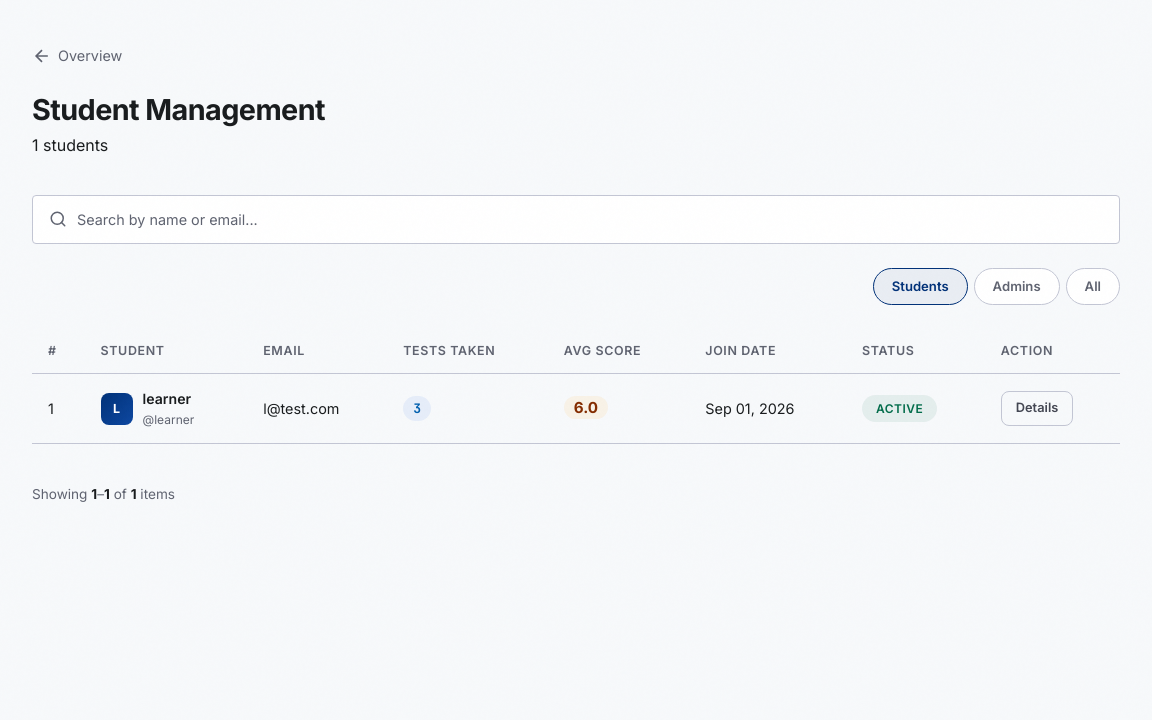
AdminUsersPage account management › suspends another account after the confirmation
What coordinates should you click on to do the following:
click the button "Details"
I would click on:
 (1037, 409)
Its box is [1001,391,1073,426].
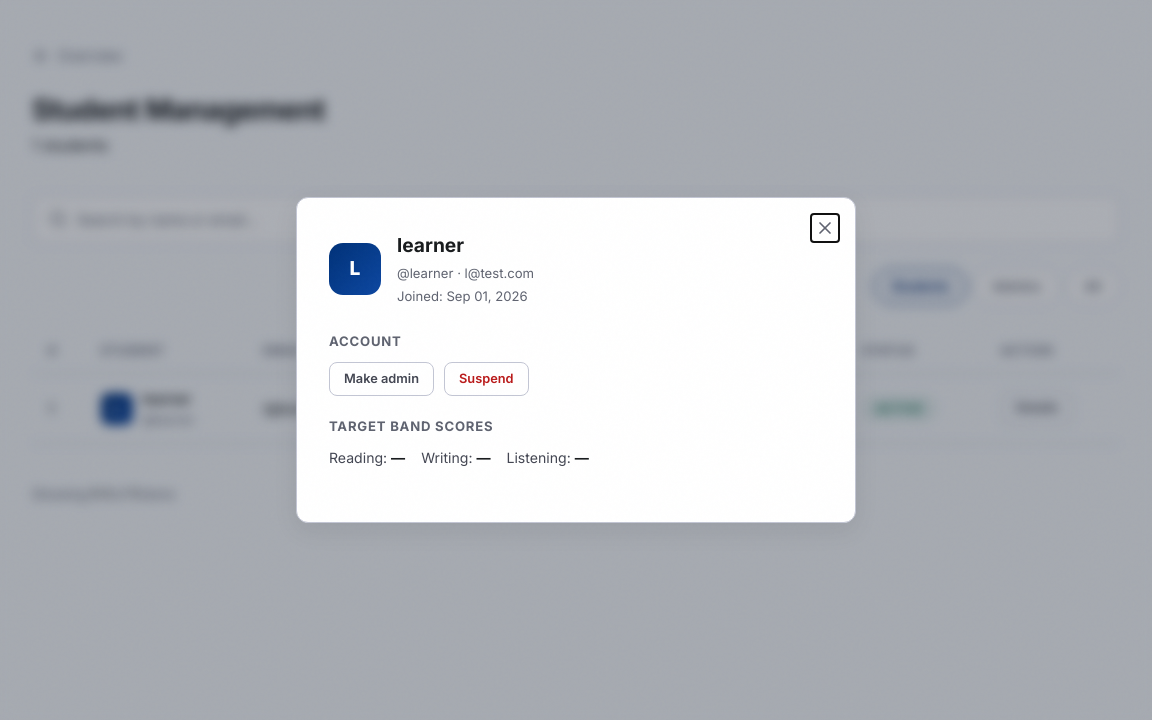
What coordinates should you click on to do the following:
click the button "Suspend"
I would click on:
 (486, 379)
Its box is [444,362,529,396].
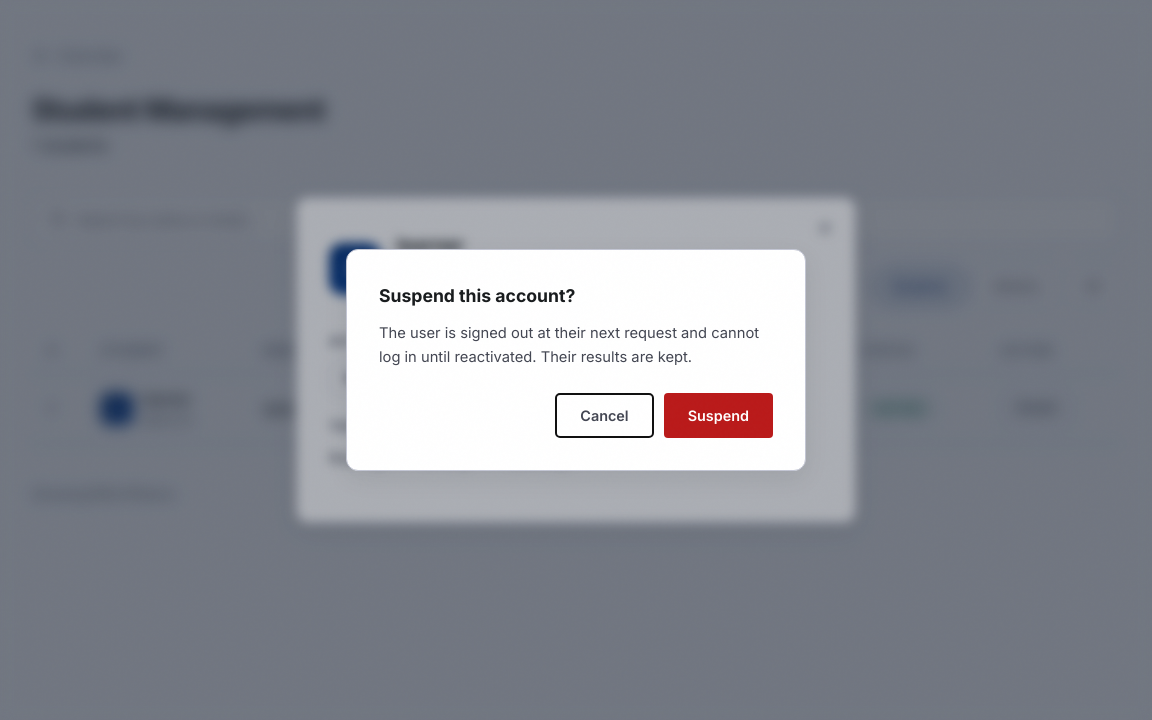
What coordinates should you click on to do the following:
click the button "Suspend"
I would click on:
 (718, 416)
Its box is [664,393,773,438].
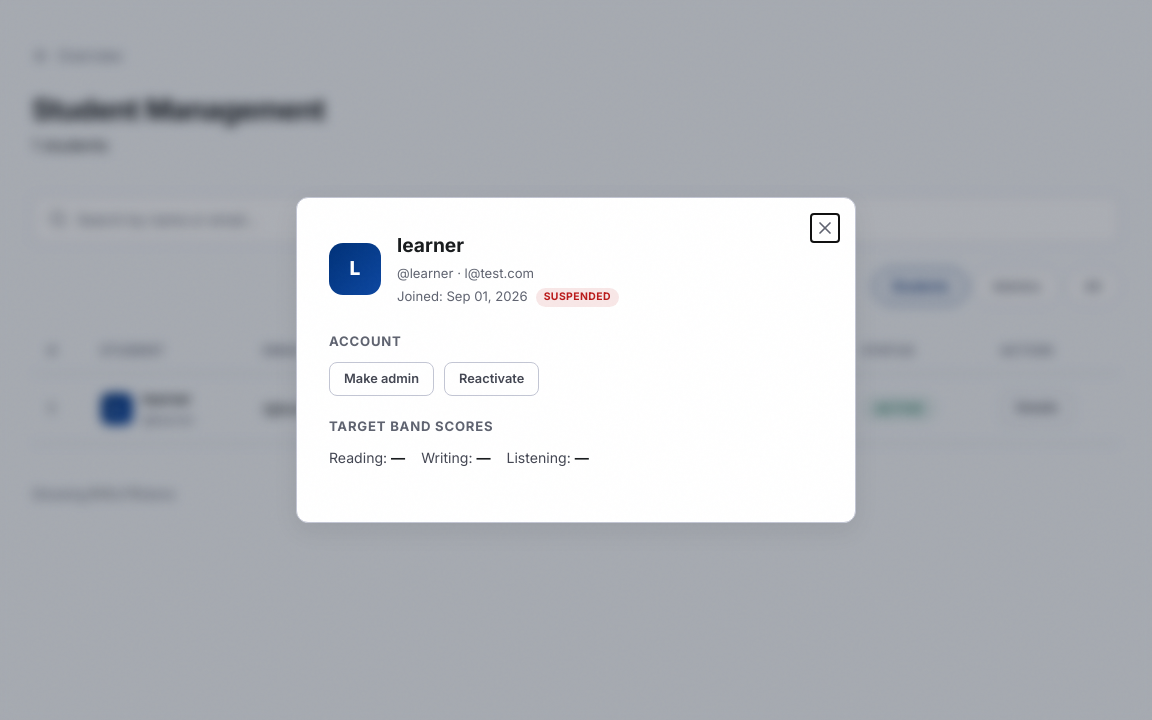
Result: the button "Reactivate" is shown at [444,362,539,396]
